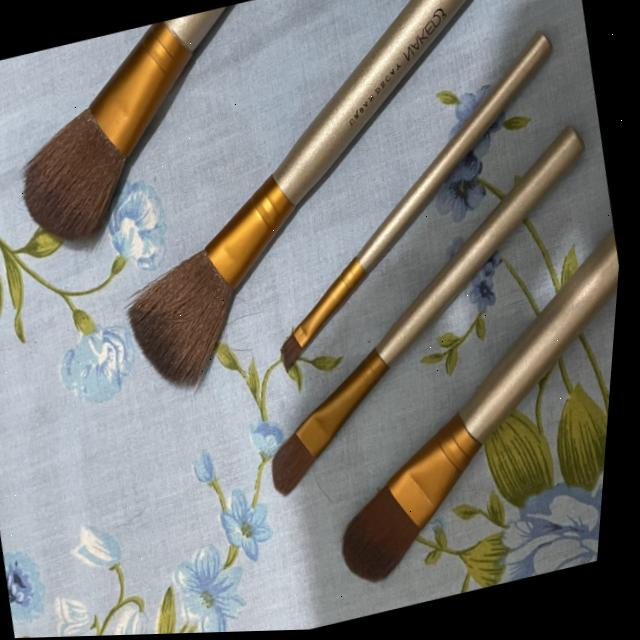brush: (0, 33, 173, 299), (95, 207, 277, 423), (305, 418, 504, 612), (239, 340, 392, 516), (244, 290, 336, 398)
